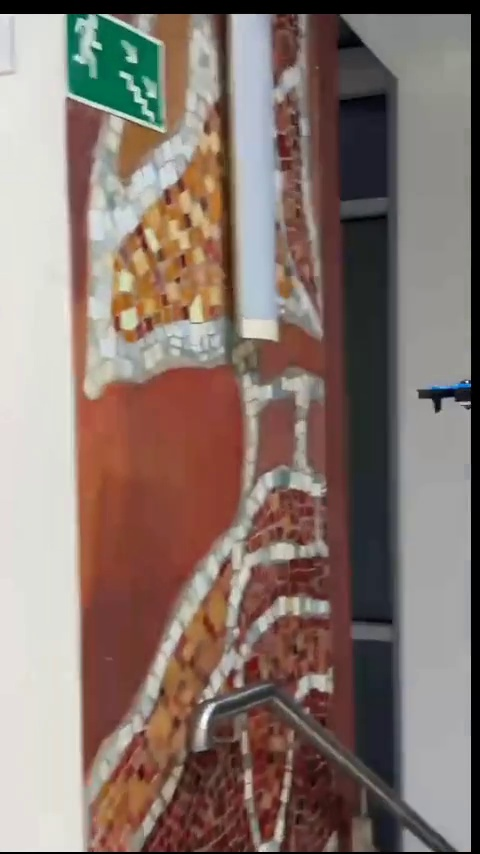drone: (418, 384, 480, 412)
